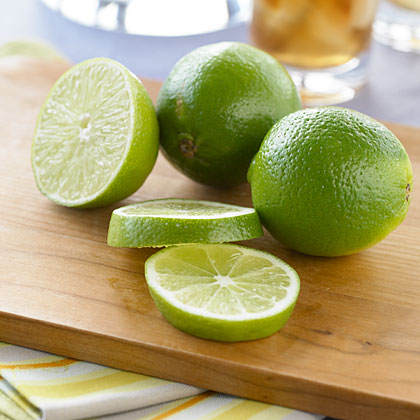lime: (253, 104, 413, 261), (160, 39, 292, 178), (27, 59, 147, 211)
